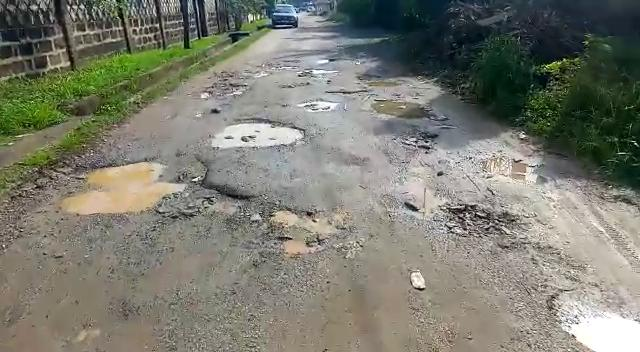pothole: (54, 153, 253, 220), (545, 286, 639, 350), (253, 200, 351, 255), (435, 202, 528, 241), (217, 118, 313, 148), (479, 154, 554, 186), (368, 99, 436, 121), (198, 79, 254, 98), (294, 99, 339, 112), (324, 88, 374, 95)
